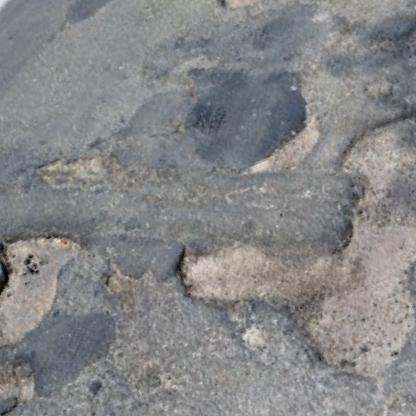pothole: (152, 100, 416, 416), (0, 213, 103, 357), (229, 113, 335, 191), (28, 140, 111, 204), (97, 246, 160, 302), (0, 349, 44, 416), (214, 0, 291, 18)
